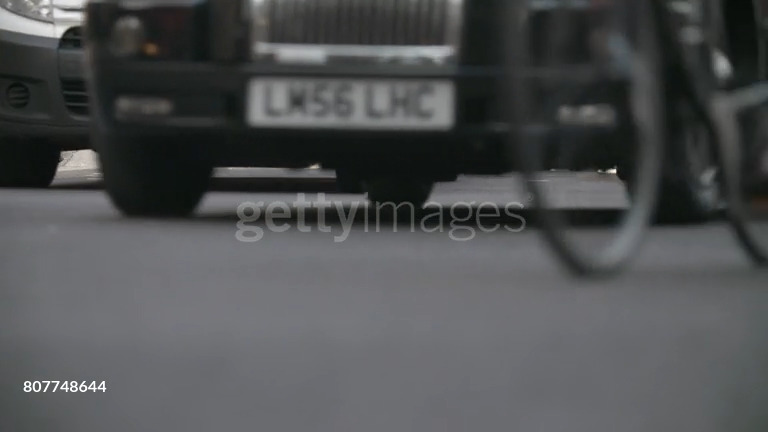car number: (247, 75, 453, 126)
